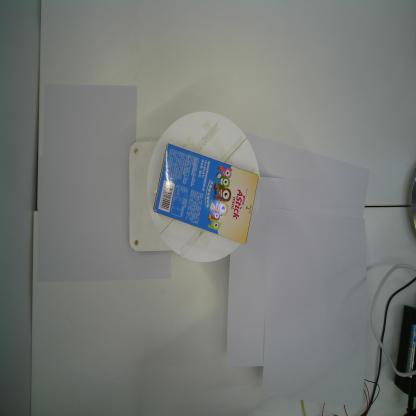Dessert: (153, 143, 259, 244)
